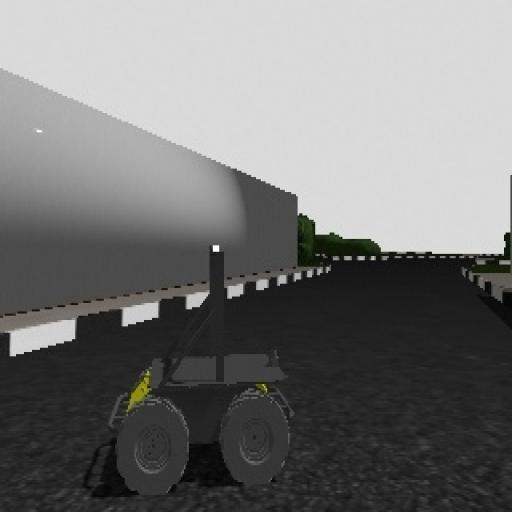huskya200: (83, 230, 304, 488)
